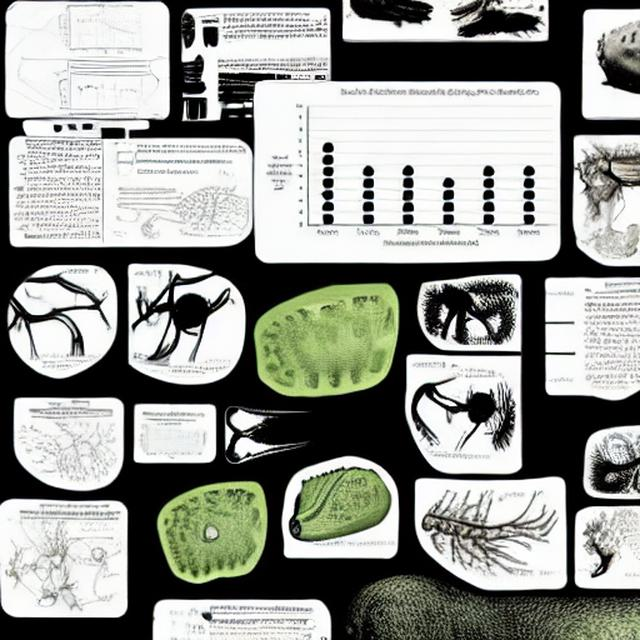Graph: (262, 85, 552, 252), (56, 3, 145, 58), (138, 418, 202, 460)
